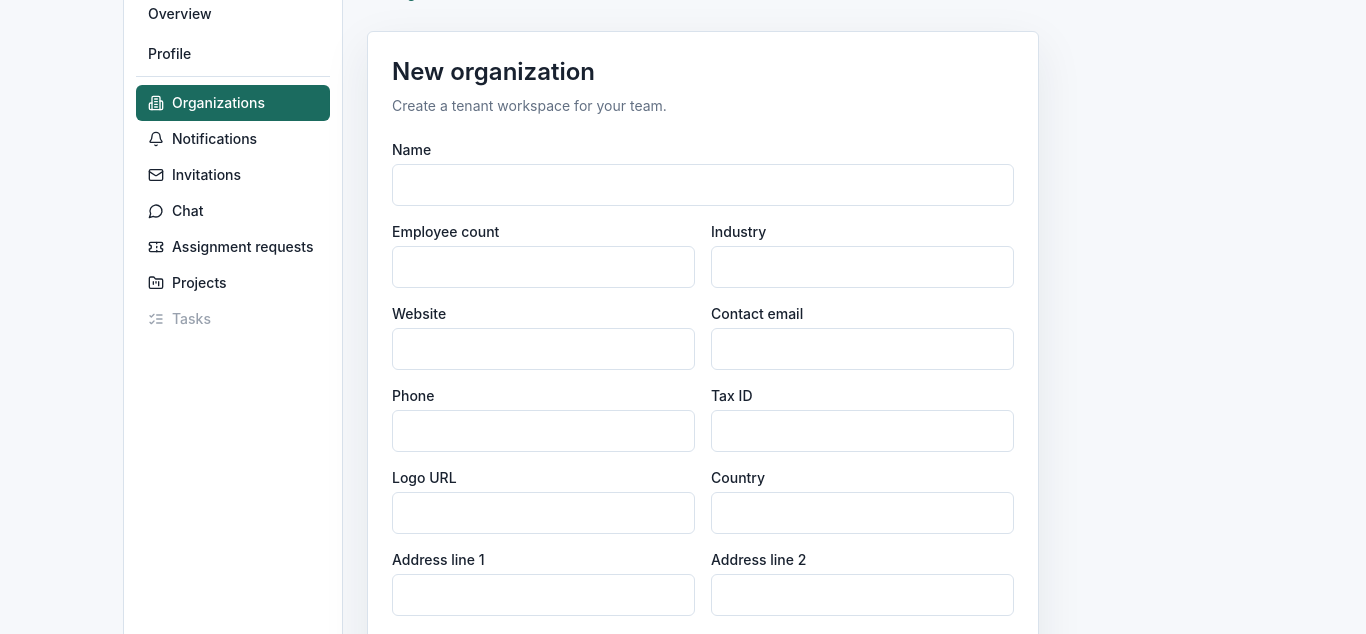
Test: SPEC-105 frontend organizations UI › renders safe organization create errors
This screenshot has width=1366, height=634.
Type "Acme Ops" into the field labelled "Name".
click(703, 185); type("Acme Ops")  # box top-left (392, 164), bottom-right (1014, 206)
(page scrolled)
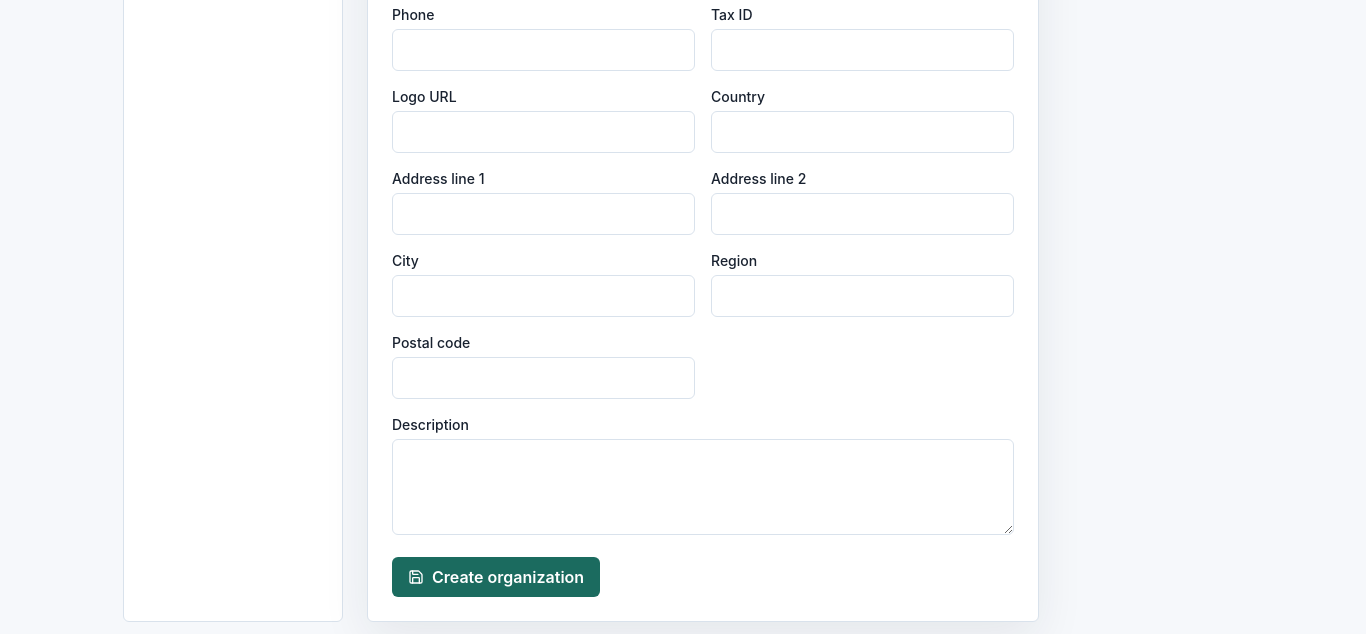
Click the button "Create organization".
click(496, 577)  # box top-left (392, 557), bottom-right (600, 597)
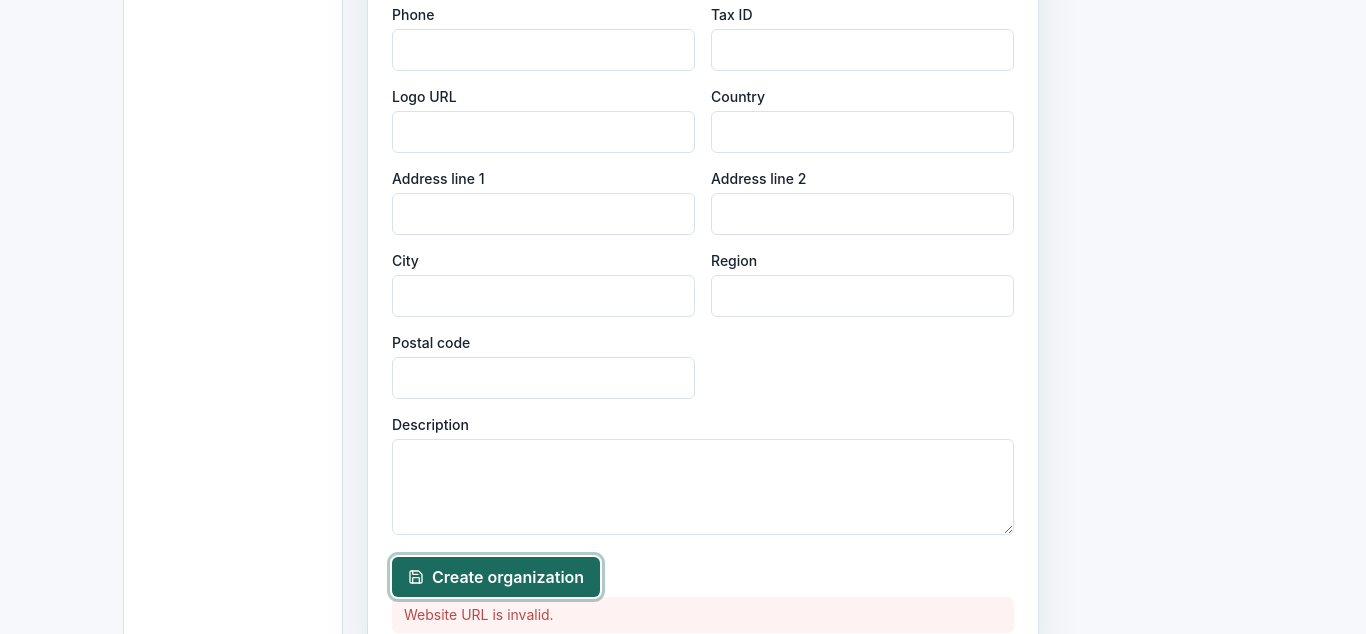
Now the message reads "Website URL is invalid.", box top-left (404, 606), bottom-right (554, 623)
